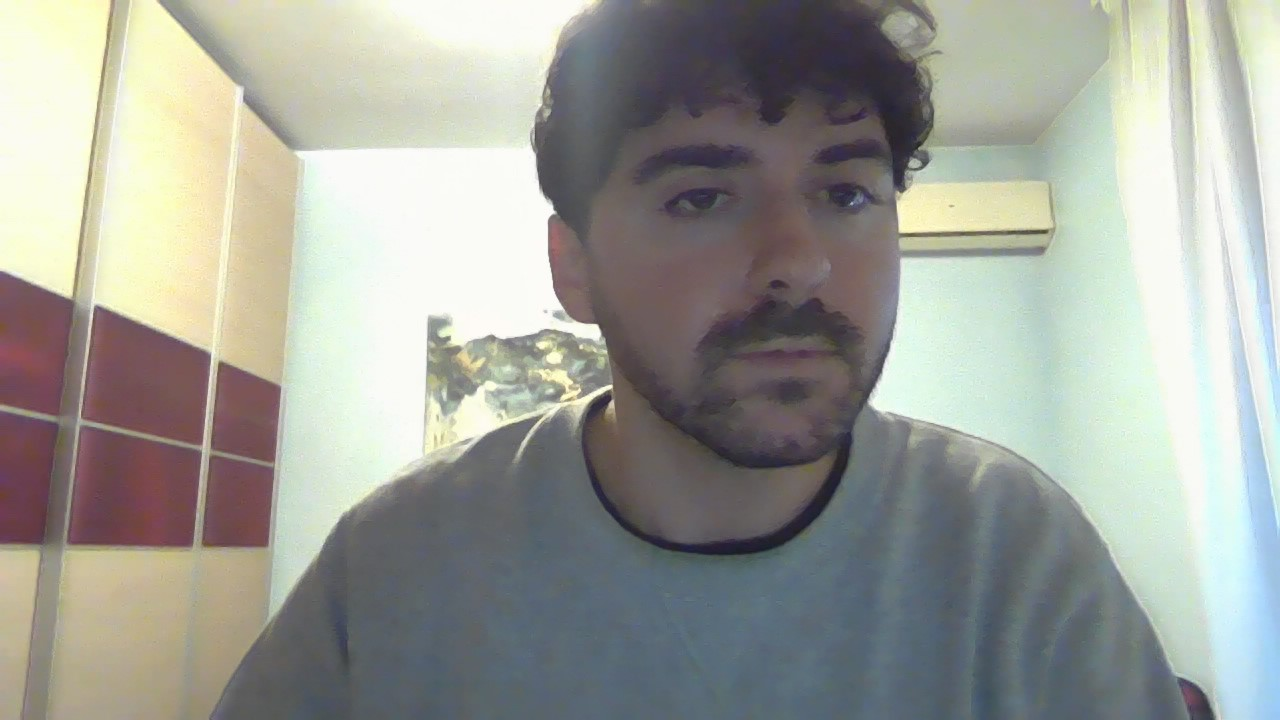NoGlasses: (541, 119, 961, 237)
